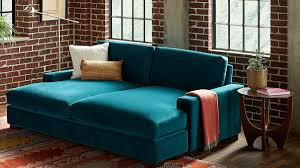light: (22, 0, 79, 57)
sofa: (5, 42, 244, 164)
table: (235, 85, 293, 149)
